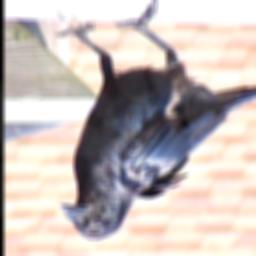Crow: (55, 0, 256, 240)
